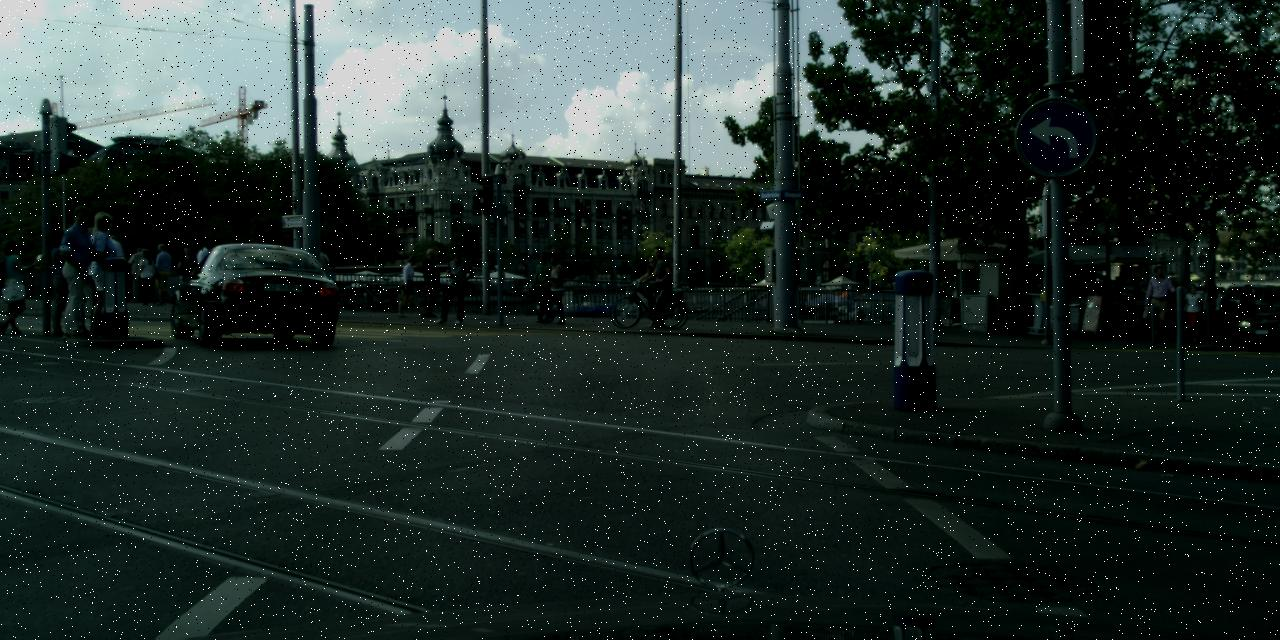ped: (52, 204, 104, 336), (76, 212, 126, 334), (93, 222, 138, 332), (42, 228, 86, 334), (0, 240, 29, 330), (1145, 266, 1176, 340), (438, 247, 468, 322), (530, 250, 558, 320), (643, 246, 671, 316), (540, 254, 567, 321), (416, 248, 442, 315), (304, 244, 330, 309), (150, 242, 175, 304), (197, 240, 222, 302), (400, 256, 424, 316), (640, 256, 664, 315), (1181, 283, 1204, 341), (175, 246, 198, 302), (135, 248, 157, 303), (128, 246, 148, 301), (1210, 286, 1228, 332), (1238, 284, 1256, 330)
